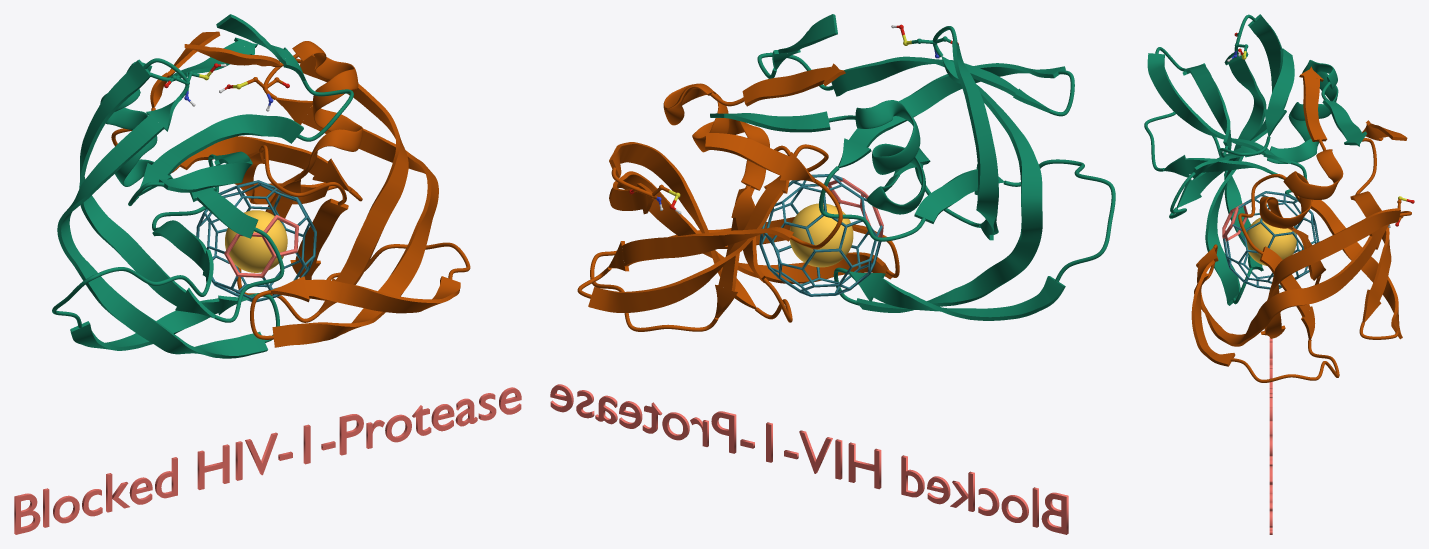
The model's file is newFullerene14.glb.
3 renders of one model, left to right at view 1: azimuth 30°, elevation 25°; view 2: azimuth 150°, elevation 25°; view 3: azimuth 270°, elevation 25°, orthographic. The views are drawn at different scales.
Visible parts, largest first — view 1: proteaseModel, text, carbonBonds, dopeModel, soccerBonds; view 2: proteaseModel, text, carbonBonds, dopeModel; view 3: proteaseModel, carbonBonds, dopeModel, text, soccerBonds.
Boxes of the visible parts, <box> form: proteaseModel: <box>52,14,470,358</box>; text: <box>14,387,521,534</box>; carbonBonds: <box>196,180,316,302</box>; dopeModel: <box>225,210,287,272</box>; soccerBonds: <box>224,214,298,277</box>; proteaseModel: <box>577,14,1115,331</box>; text: <box>550,384,1068,534</box>; carbonBonds: <box>759,174,882,296</box>; dopeModel: <box>789,203,853,267</box>; proteaseModel: <box>1144,14,1414,382</box>; carbonBonds: <box>1223,191,1319,289</box>; dopeModel: <box>1246,217,1296,265</box>; text: <box>1269,337,1272,534</box>; soccerBonds: <box>1222,202,1247,241</box>.
Size of the model in its own units: 9.7 by 8.45 by 5.51.
